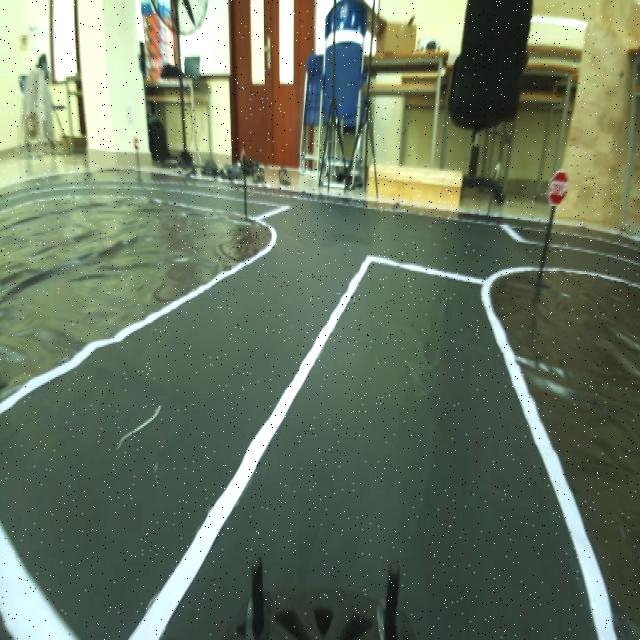stop: (544, 161, 573, 211)
